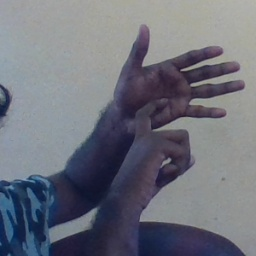R: (95, 20, 247, 194)
